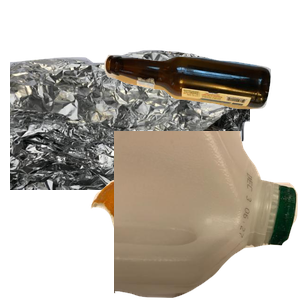glass: (101, 52, 300, 154)
metal: (10, 47, 250, 227)
plastic: (114, 131, 300, 300)
trash: (88, 177, 251, 300)
